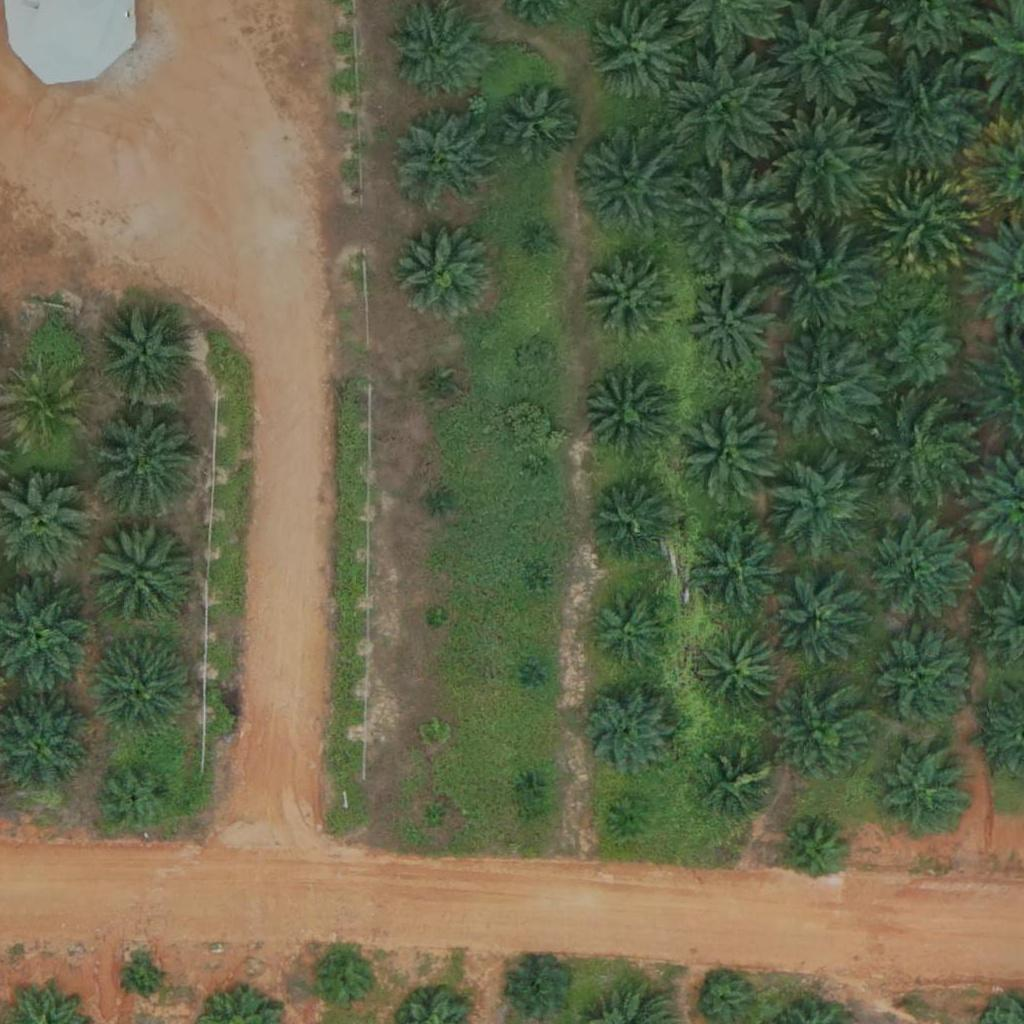Kelapa_Sawit: (572, 126, 685, 240), (874, 57, 987, 170), (865, 167, 978, 280), (672, 54, 784, 168), (766, 224, 878, 338), (770, 327, 882, 441), (675, 160, 787, 274), (763, 111, 875, 224), (572, 675, 684, 788), (91, 404, 203, 517), (769, 456, 869, 557), (678, 405, 778, 506), (686, 517, 786, 618), (393, 109, 493, 210), (391, 217, 491, 318), (773, 684, 873, 785), (867, 629, 967, 730), (872, 739, 972, 840), (93, 304, 193, 405), (590, 4, 690, 104), (874, 400, 974, 500), (867, 521, 967, 621), (88, 524, 188, 624), (93, 638, 193, 738), (590, 586, 678, 675), (587, 478, 675, 566), (696, 630, 784, 718), (776, 582, 863, 670), (688, 283, 775, 371), (588, 250, 675, 338), (581, 372, 668, 460), (494, 79, 581, 167), (99, 760, 174, 836), (883, 311, 958, 387), (703, 748, 778, 823), (782, 821, 845, 884), (505, 959, 568, 1022), (315, 952, 377, 1015), (519, 342, 557, 380), (612, 797, 650, 835), (127, 960, 164, 998), (532, 227, 557, 252), (528, 457, 553, 482), (522, 573, 547, 598), (428, 377, 453, 402), (428, 490, 453, 515), (424, 608, 449, 633), (420, 720, 445, 745), (423, 804, 448, 829), (523, 662, 548, 687), (516, 772, 541, 797)
